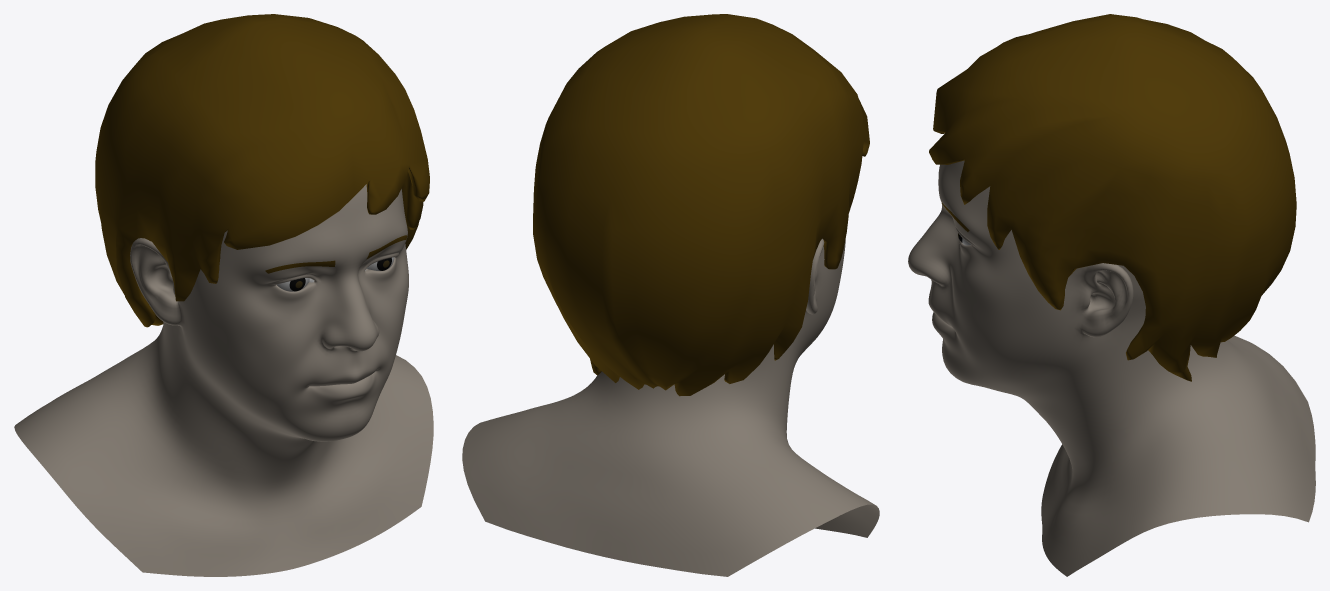
The picture shows the model from 3 angles, left to right: view 1: azimuth 30°, elevation 25°; view 2: azimuth 150°, elevation 25°; view 3: azimuth 270°, elevation 25°; orthographic projection. The views are drawn at different scales.
Visible parts, largest first — view 1: NEUTRAL, HAIR; view 2: HAIR, NEUTRAL; view 3: HAIR, NEUTRAL.
Boxes of the visible parts, x1=… form: NEUTRAL: x1=14, y1=184, x2=433, y2=576; HAIR: x1=95, y1=14, x2=429, y2=327; HAIR: x1=533, y1=14, x2=869, y2=396; NEUTRAL: x1=462, y1=238, x2=879, y2=576; HAIR: x1=929, y1=14, x2=1296, y2=381; NEUTRAL: x1=908, y1=160, x2=1315, y2=576.
Size of the model in its own units: 29.05 by 37.67 by 27.39.
